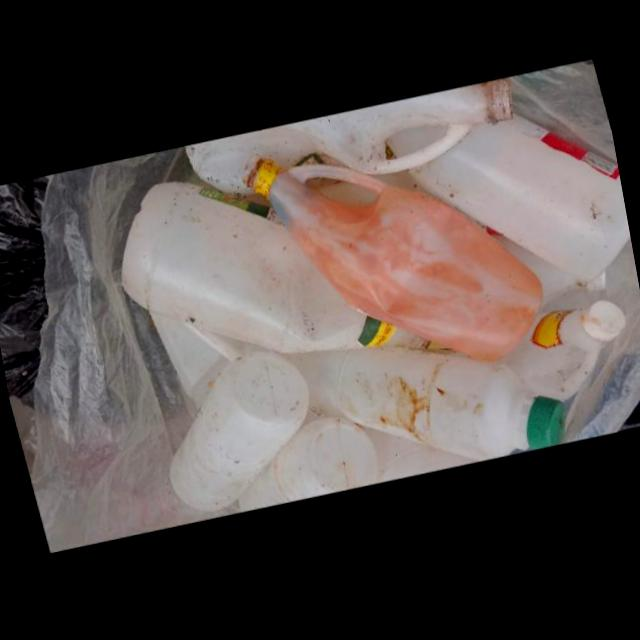chai_nhua: (242, 158, 544, 363), (122, 185, 447, 357), (290, 349, 567, 463), (502, 300, 626, 402), (479, 227, 606, 306)
hop_nhua: (188, 77, 517, 199), (409, 114, 630, 282), (171, 355, 310, 517), (241, 421, 381, 517)
